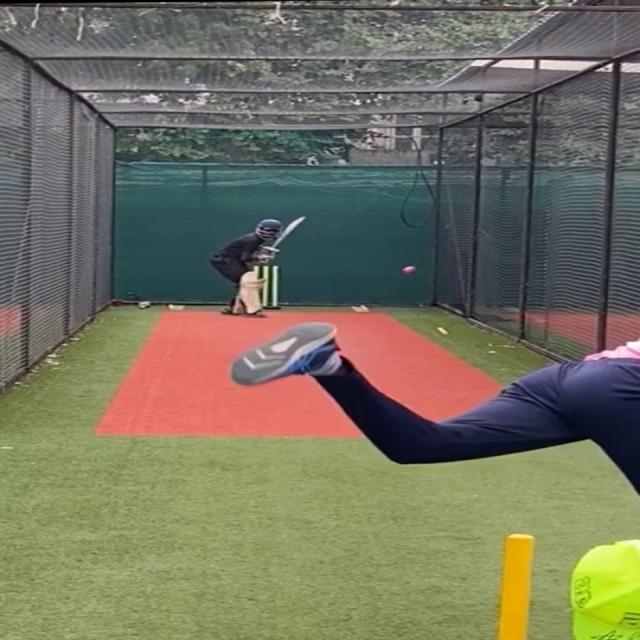ball: (402, 263, 418, 275)
stump: (261, 265, 282, 311)
